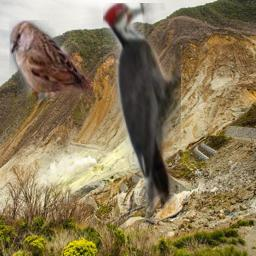Sparrow: (9, 20, 91, 101)
Woodpecker: (103, 3, 181, 226)
